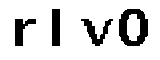0: (119, 6, 151, 50)
l: (47, 5, 72, 52)
r: (8, 14, 40, 49)
v: (76, 15, 114, 49)
